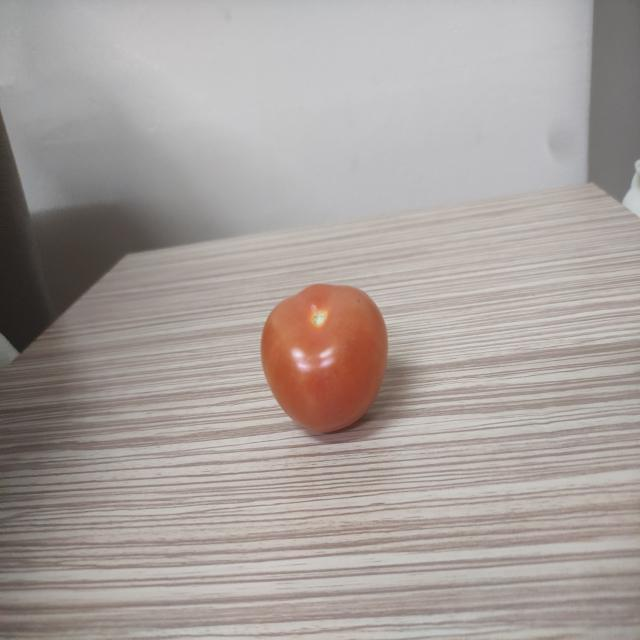sari: (244, 271, 400, 448)
